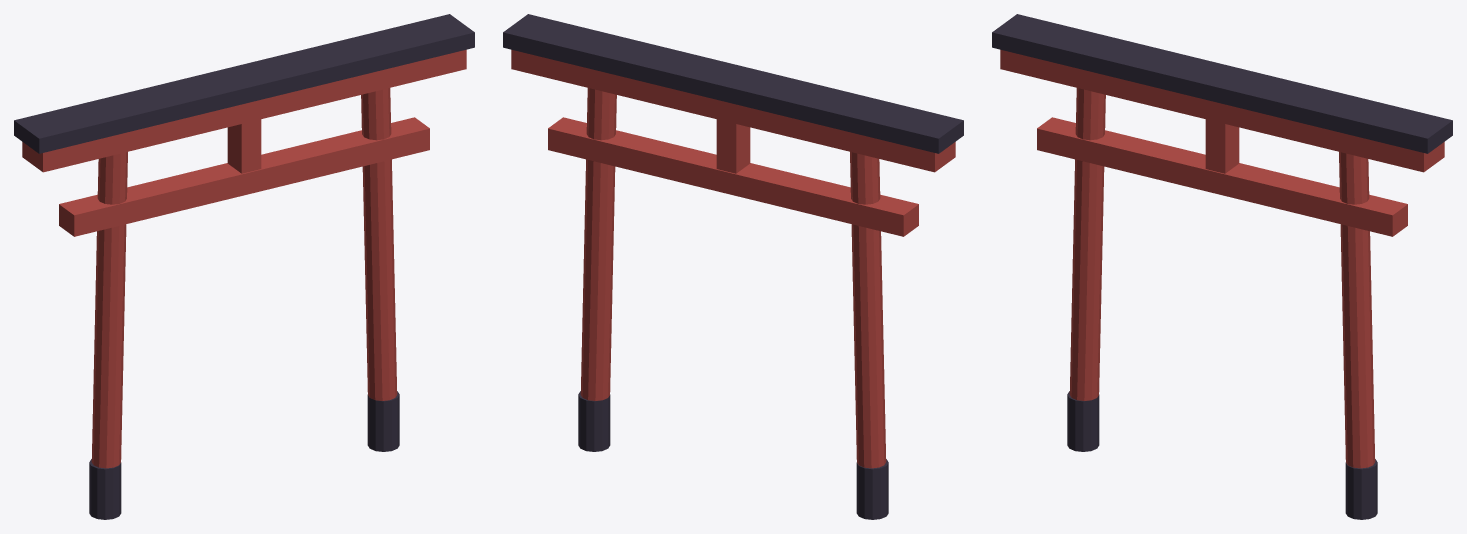
File: SM_SmallTorii.fbx
3 renders of one model, left to right at view 1: azimuth 30°, elevation 25°; view 2: azimuth 150°, elevation 25°; view 3: azimuth 330°, elevation 25°, orthographic.
Parts seen in each view (by area): view 1: SM_SmallTorii; view 2: SM_SmallTorii; view 3: SM_SmallTorii.
Part boxes in pixels (x1,y1,x2,y2): SM_SmallTorii: (14, 14, 474, 519); SM_SmallTorii: (503, 14, 963, 519); SM_SmallTorii: (992, 14, 1452, 519).
Size of the model in its own units: 3.6 by 0.36 by 3.18.
